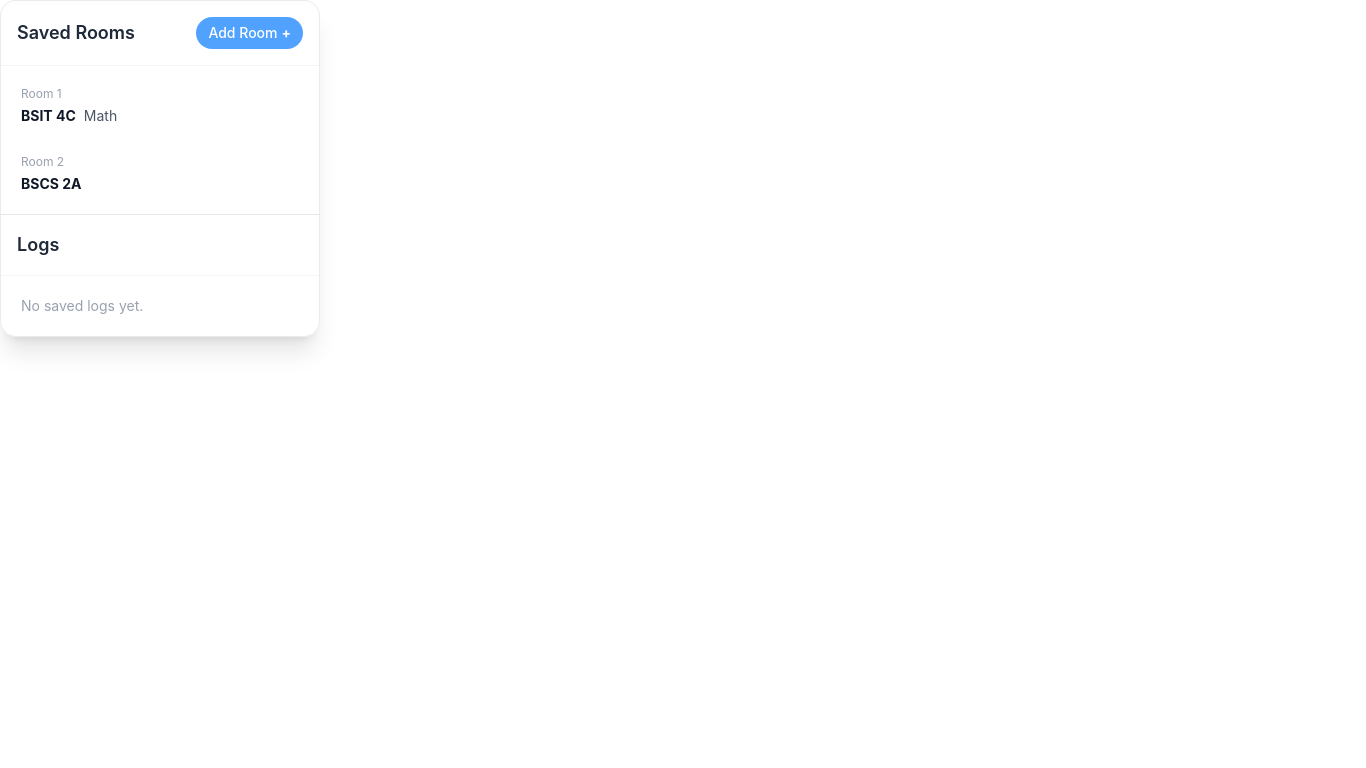
Scenario: CASE-024: Customize › opens the customize form pre-filled with the saved settings
Click the text "Room 1": (41, 94) left=21, top=86, right=62, bottom=101
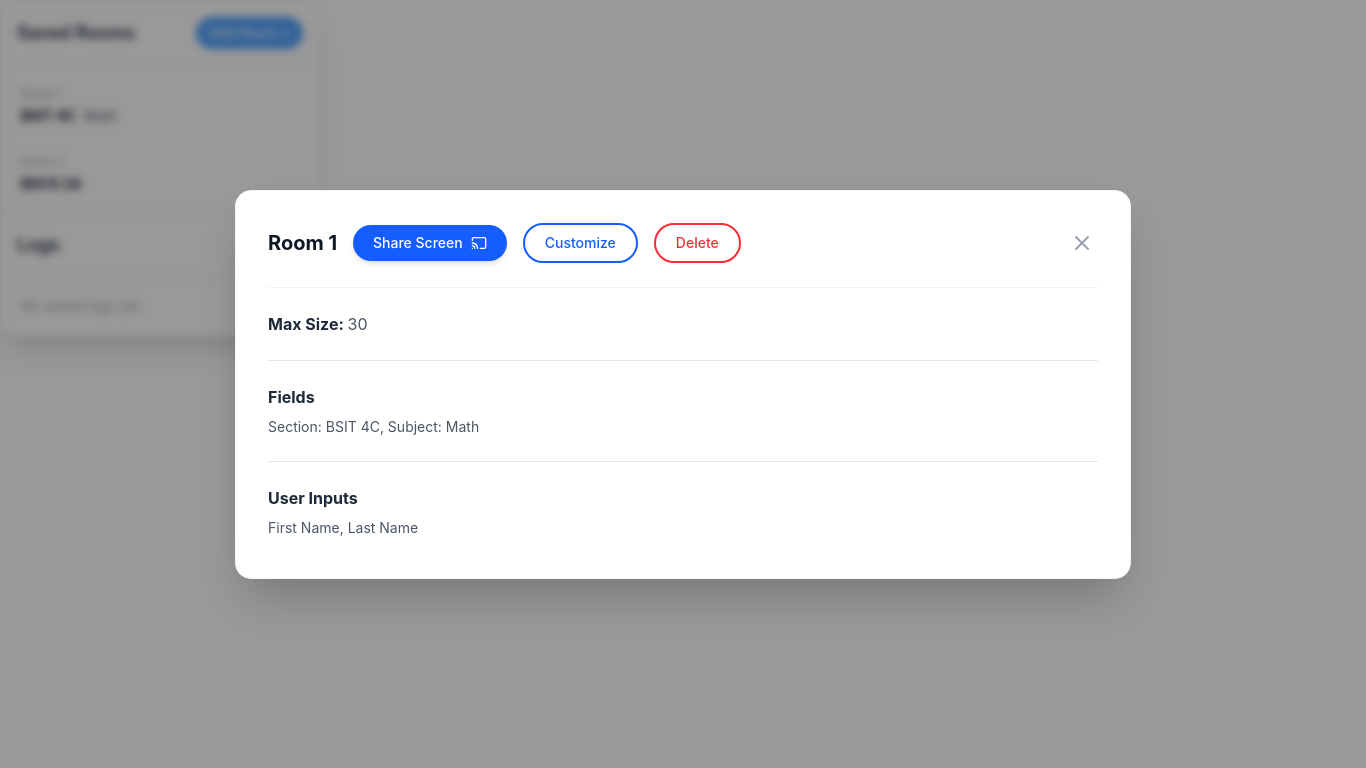
Expected: the heading "Room 1" is shown, left=268, top=228, right=337, bottom=256
Click the button "Customize": (580, 242) left=523, top=222, right=638, bottom=262
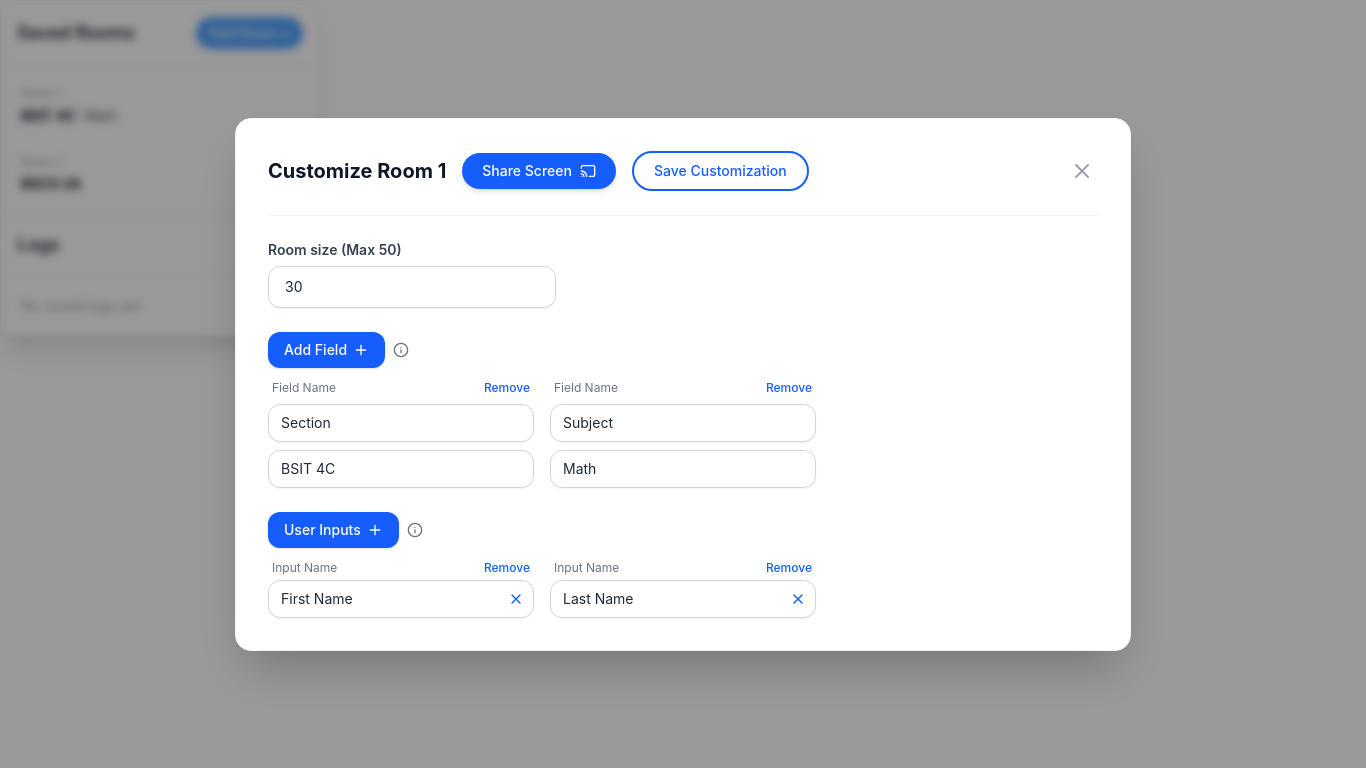
Expected: the heading "Customize Room 1" is shown, left=268, top=156, right=446, bottom=184
Expected: the field below "Room size (Max" holds "30", left=268, top=266, right=556, bottom=308
